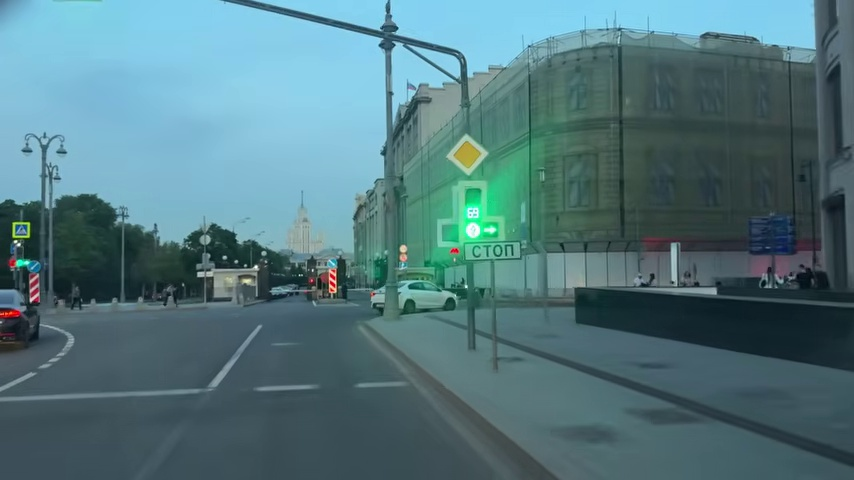apagada: (17, 131, 69, 174), (20, 133, 66, 161)
